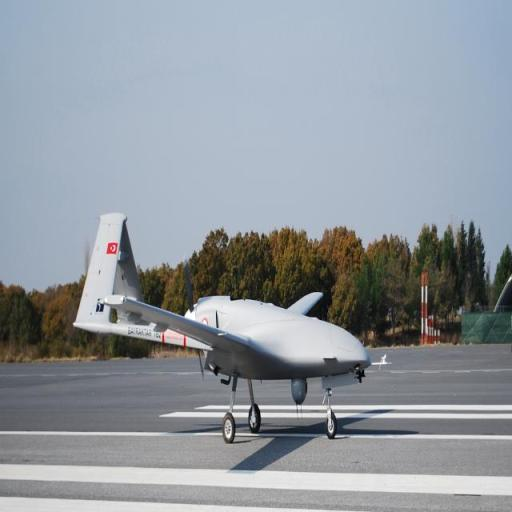uav: (72, 205, 375, 451)
